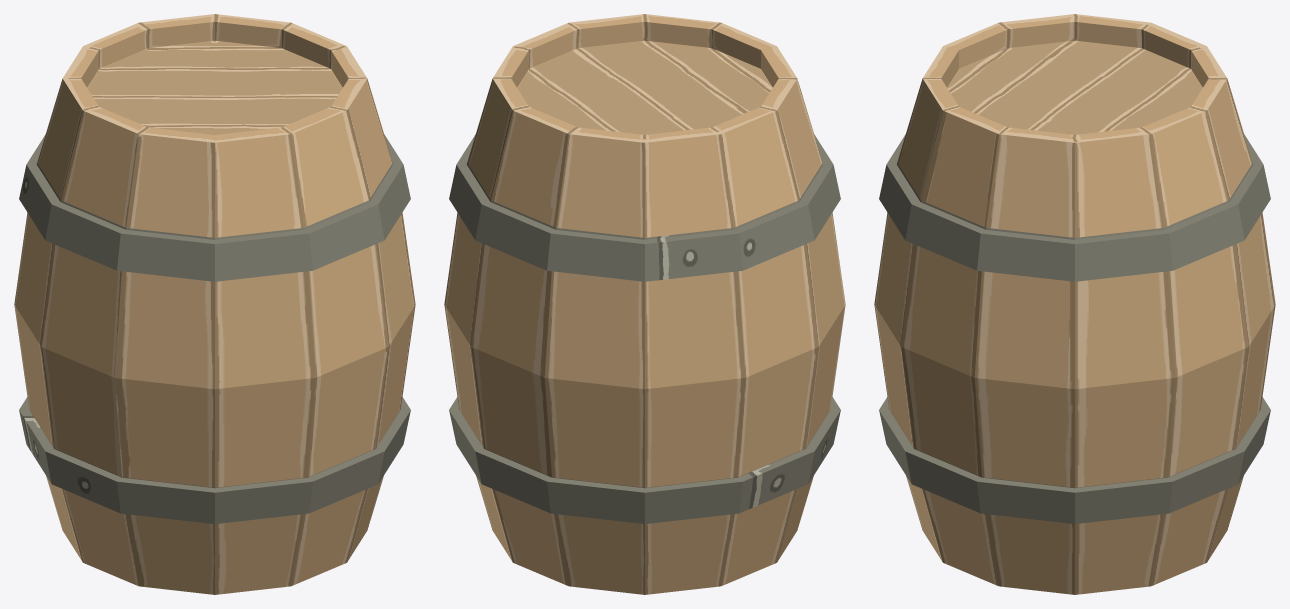
Rendered from Barrel.fbx.
The picture shows the model from 3 angles, left to right: view 1: azimuth 30°, elevation 25°; view 2: azimuth 150°, elevation 25°; view 3: azimuth 270°, elevation 25°; orthographic projection.
Parts seen in each view (by area): view 1: Barrel; view 2: Barrel; view 3: Barrel.
Boxes of the visible parts, left/top/right/bottom form: Barrel: left=14, top=14, right=415, bottom=594; Barrel: left=444, top=14, right=845, bottom=594; Barrel: left=874, top=14, right=1275, bottom=594.
Bounding box in the file's own units: 72.39 × 90 × 72.39.
